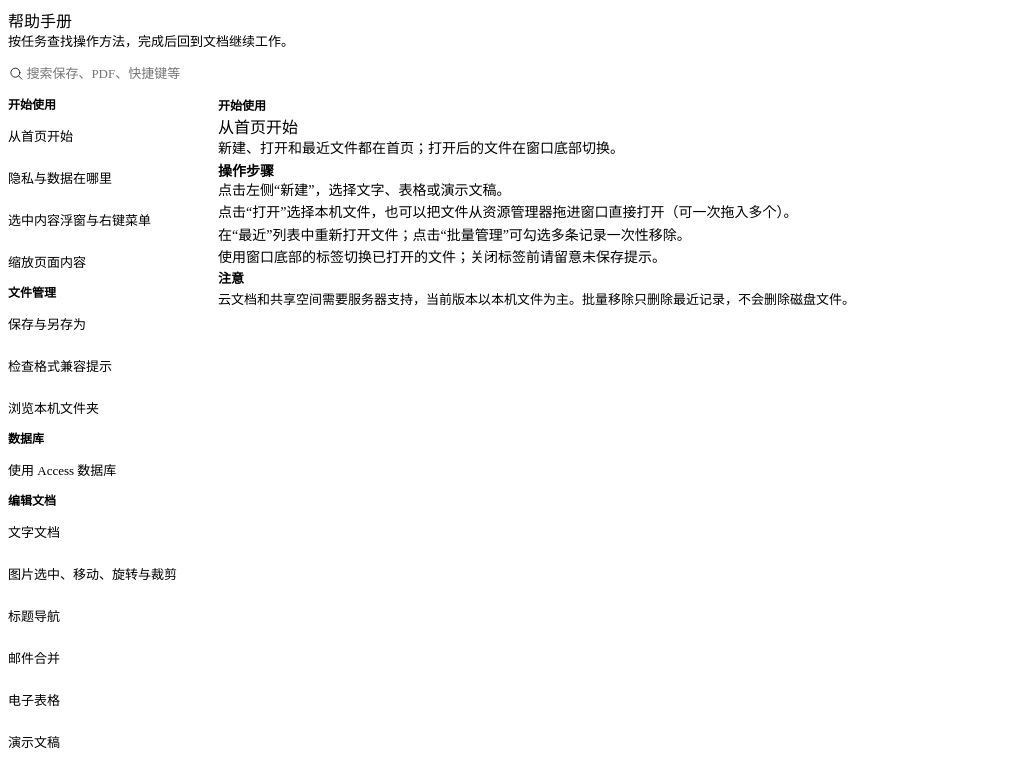
Test: 帮助手册 › 说明隐私与数据的存放位置、外发范围与清除方式
The image size is (1024, 766).
Step 1. Click the button "隐私与数据在哪里" → coordinates (108, 178), box [8,158,208,198]
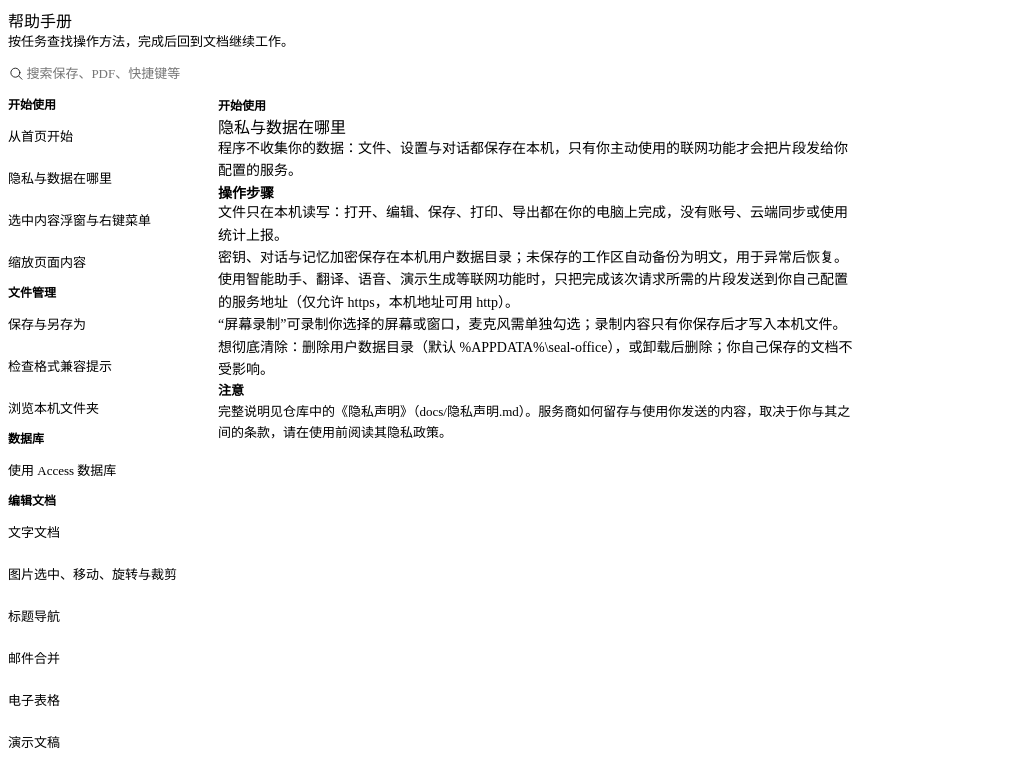
Check: the list item "密钥、对话与记忆加密保存在本机用户数据目录；未保存的工作区自动备份为明文，用于异常后恢复。" is shown, box [218,247,858,270]
Check: the list item "只把完成该次请求所需的片段发送到你自己配置的服务地址" is shown, box [218,272,848,310]
Check: the list item "%APPDATA%\\seal-office" is shown, box [218,340,852,377]
